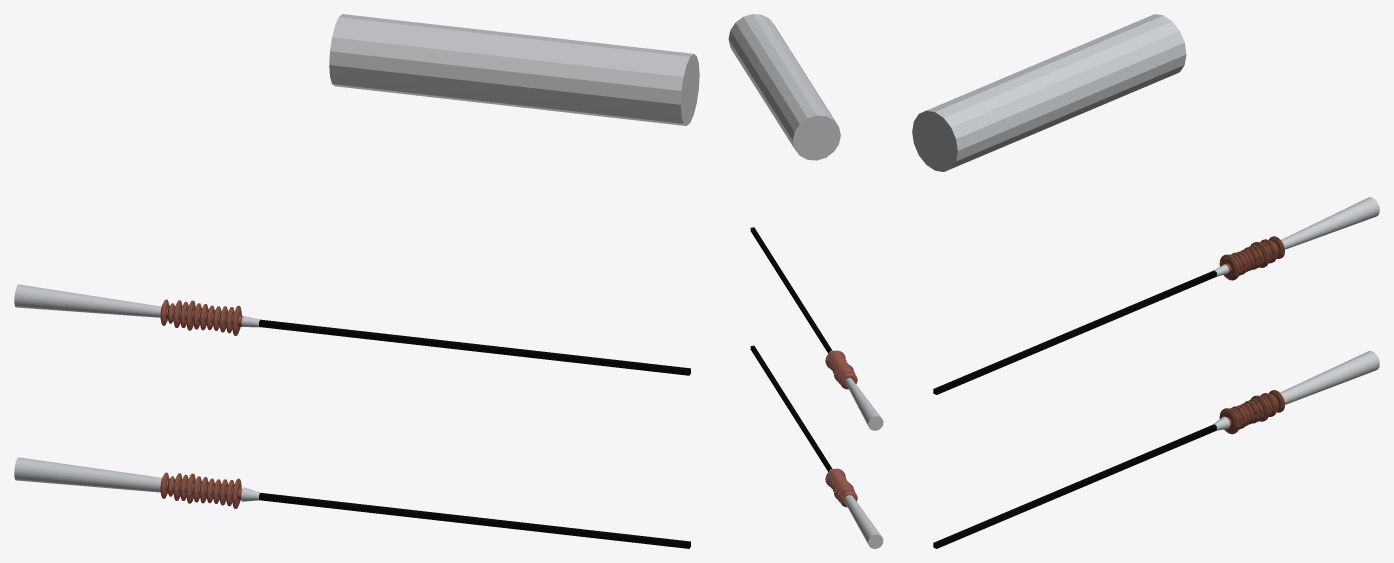
Rendered from 45d_moretop_-1_1.obj.
The picture shows the model from 3 angles, left to right: view 1: azimuth 30°, elevation 25°; view 2: azimuth 150°, elevation 25°; view 3: azimuth 270°, elevation 25°; orthographic projection. The views are drawn at different scales.
Parts seen in each view (by area): view 1: zd, chain.002, chain.001; view 2: zd, chain.002, chain.001; view 3: zd, chain.002, chain.001.
Part boxes in pixels (box(x1,y1,x2,y2)): zd: box(329, 14, 699, 125); chain.002: box(14, 284, 260, 508); chain.001: box(259, 319, 690, 548); zd: box(728, 14, 840, 160); chain.002: box(825, 350, 883, 548); chain.001: box(750, 227, 832, 471); zd: box(912, 14, 1186, 171); chain.002: box(1213, 197, 1379, 434); chain.001: box(933, 271, 1216, 548).
Bounding box in the file's own units: 2.89 × 3.04 × 2.89.
4 materials, 4 textured.
